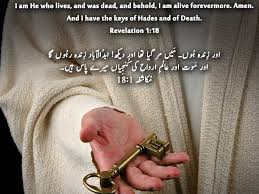keys: (83, 133, 170, 194)
